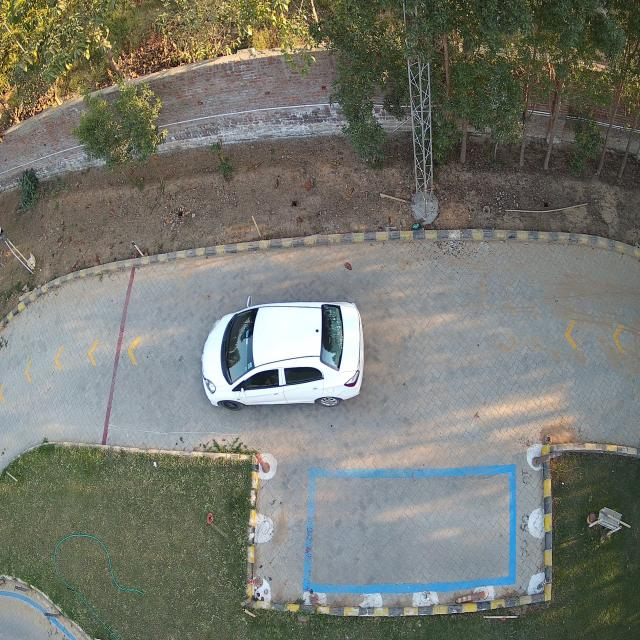car: (200, 302, 365, 409)
